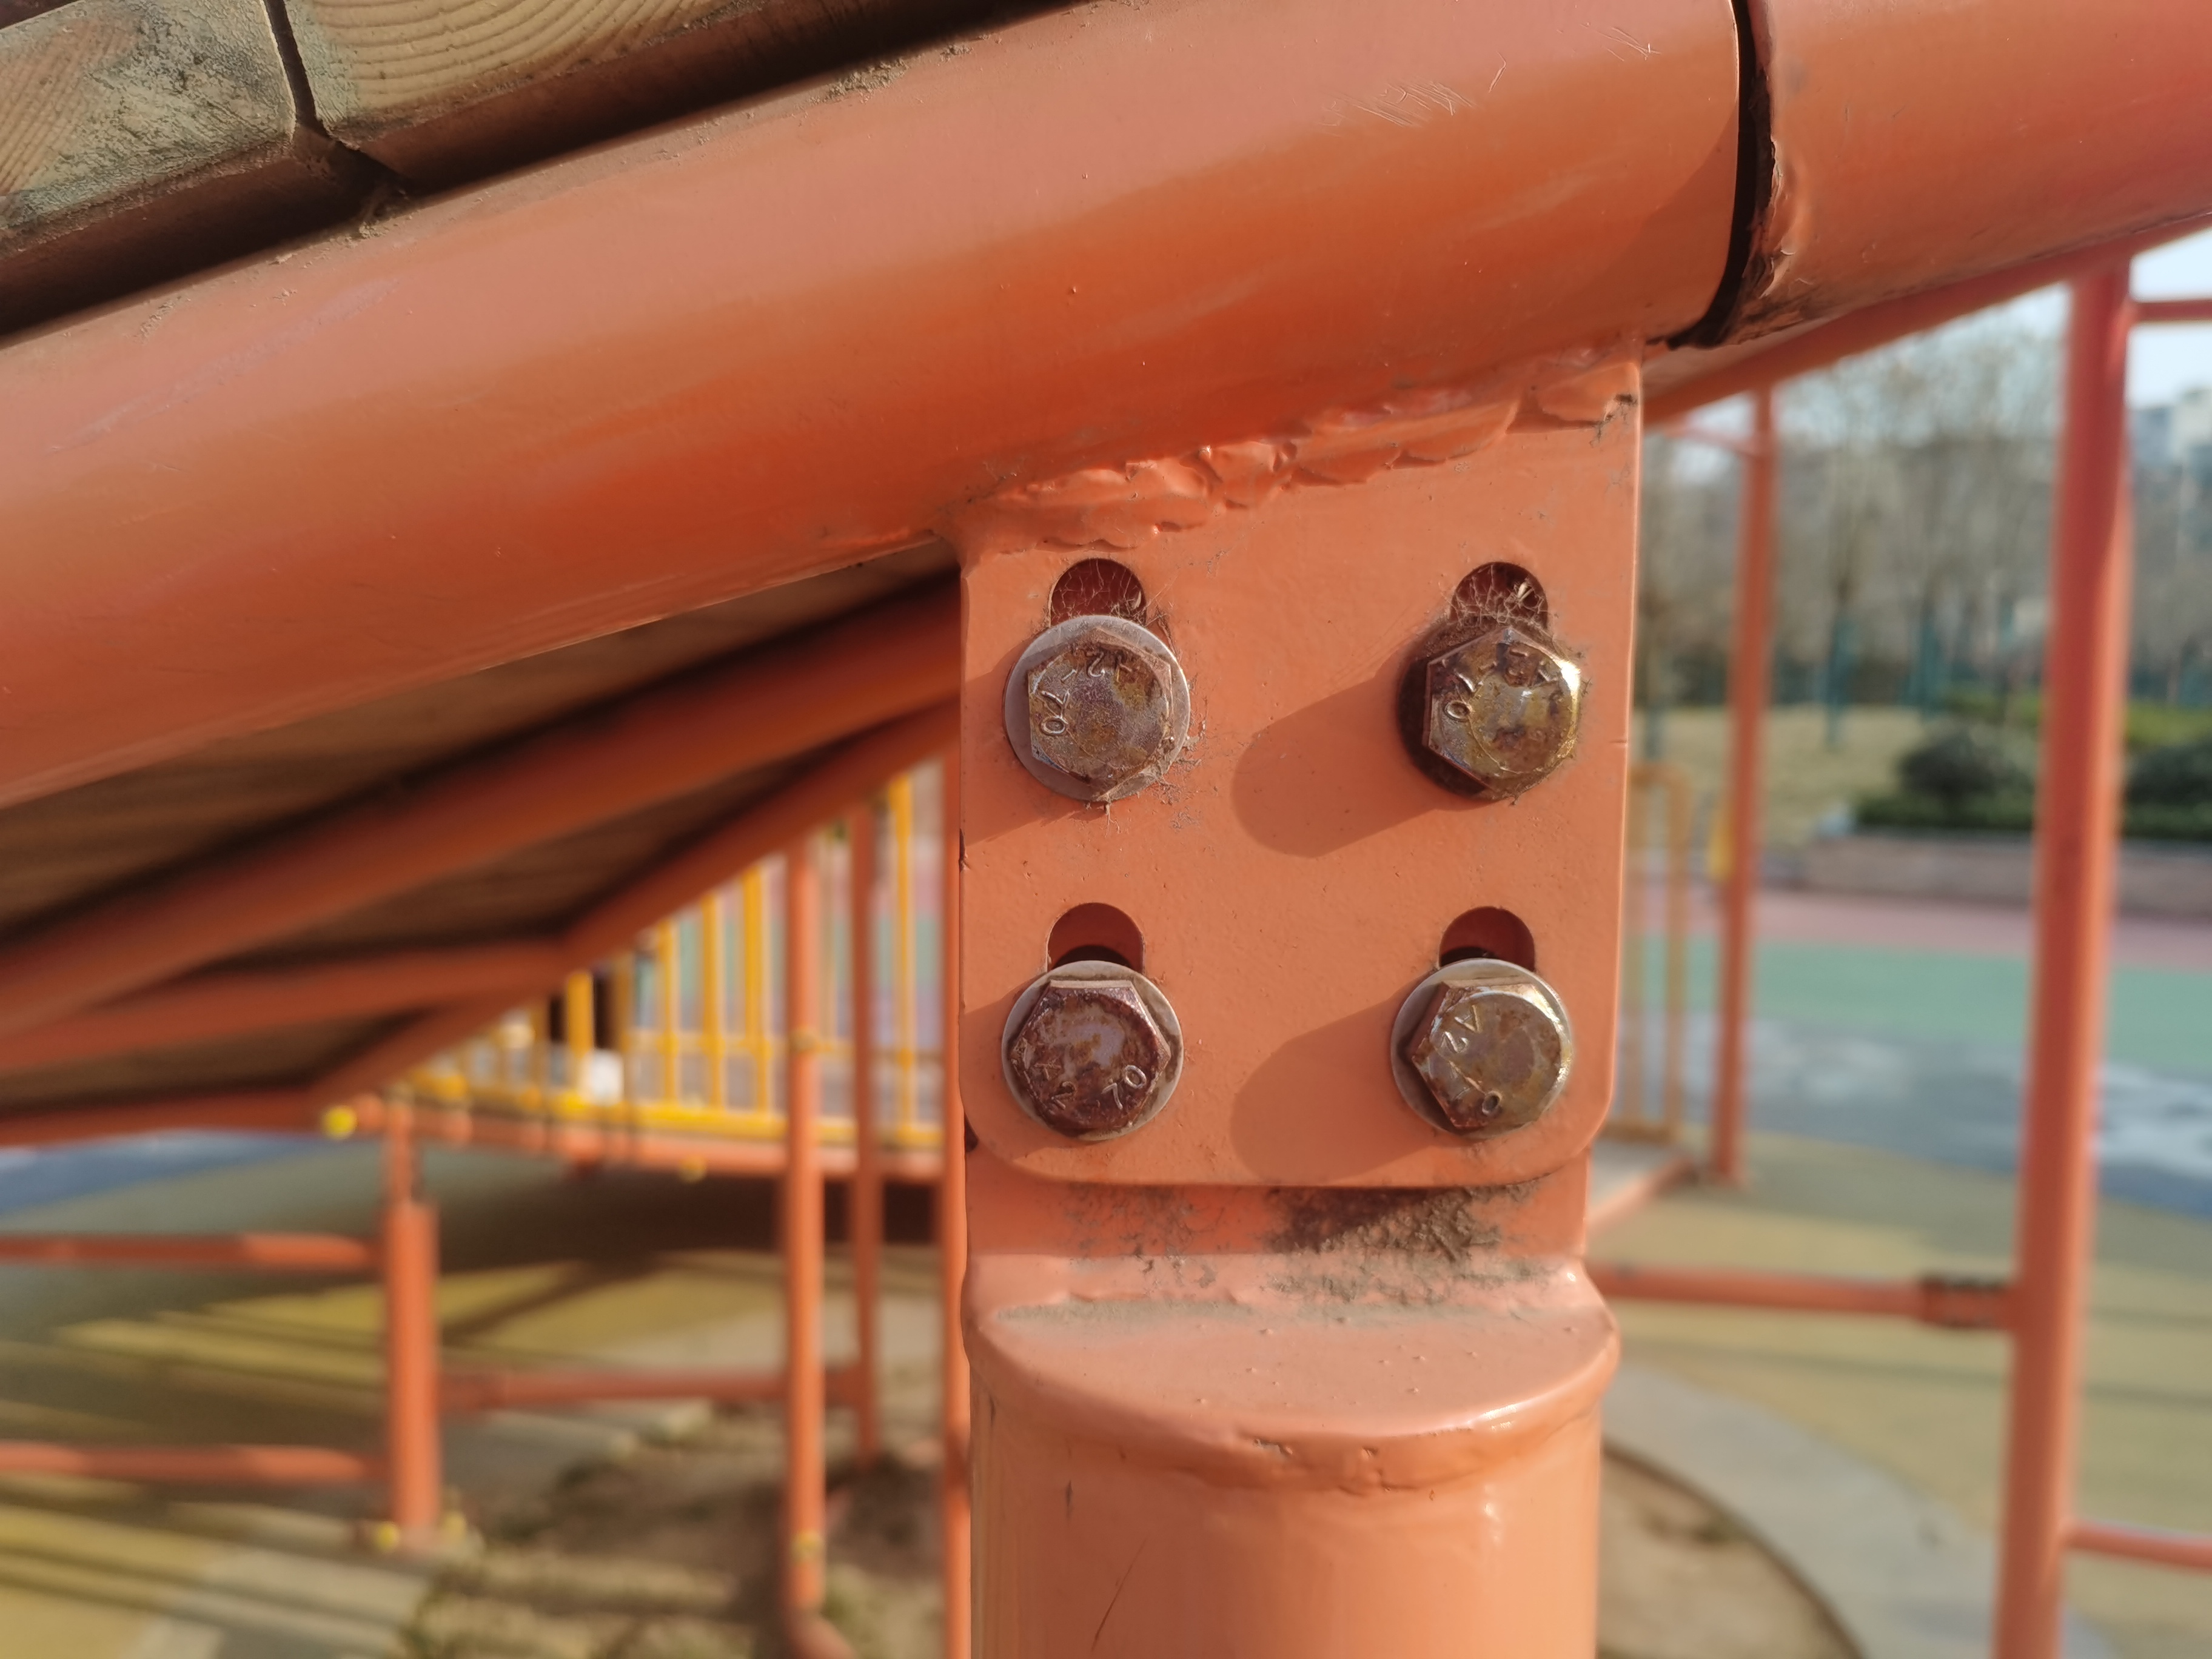bolt_a: (1416, 617, 1587, 807), (1399, 969, 1578, 1138), (1001, 972, 1177, 1138), (1022, 624, 1181, 798)
